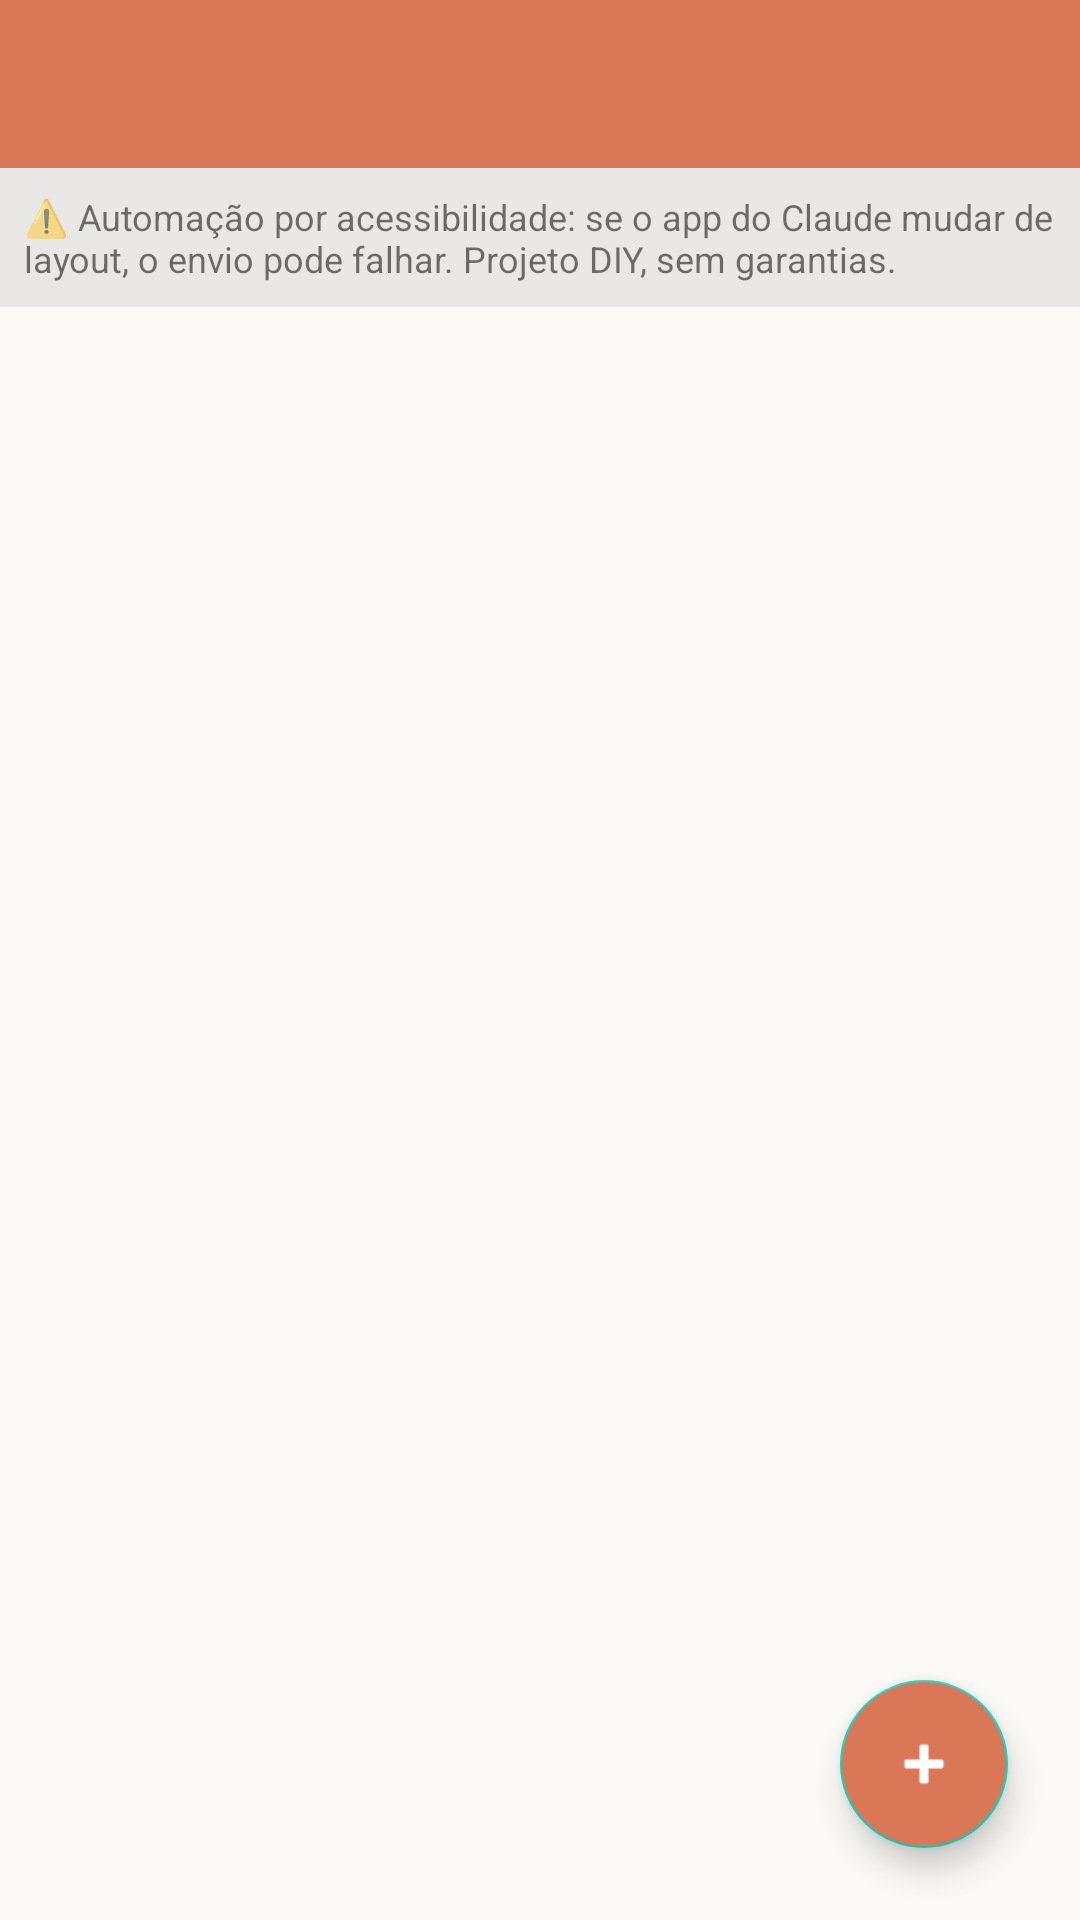

Named icons in this screenshot (1080*1920) and their bounding boxes, (x1, y1, x2, y2):
Nova mensagem agendada: (840, 1680, 1008, 1848)
